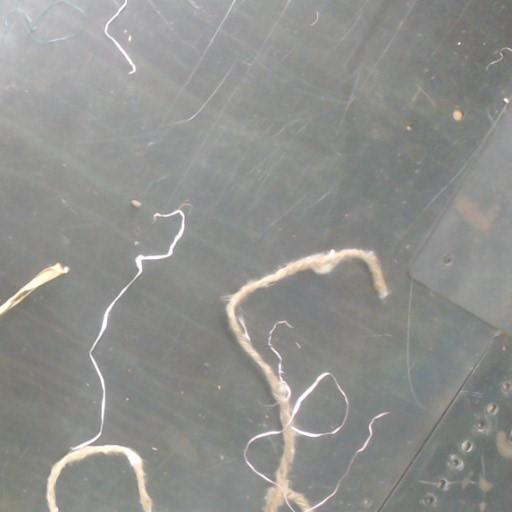conveyor belt: (57, 455, 140, 511)
jute: (224, 248, 387, 511), (46, 443, 151, 511), (0, 263, 68, 315)
thread: (70, 209, 185, 450), (288, 372, 349, 437), (18, 0, 82, 42), (103, 0, 136, 74), (305, 463, 350, 511), (243, 430, 281, 483), (268, 321, 291, 399), (351, 412, 387, 461)
